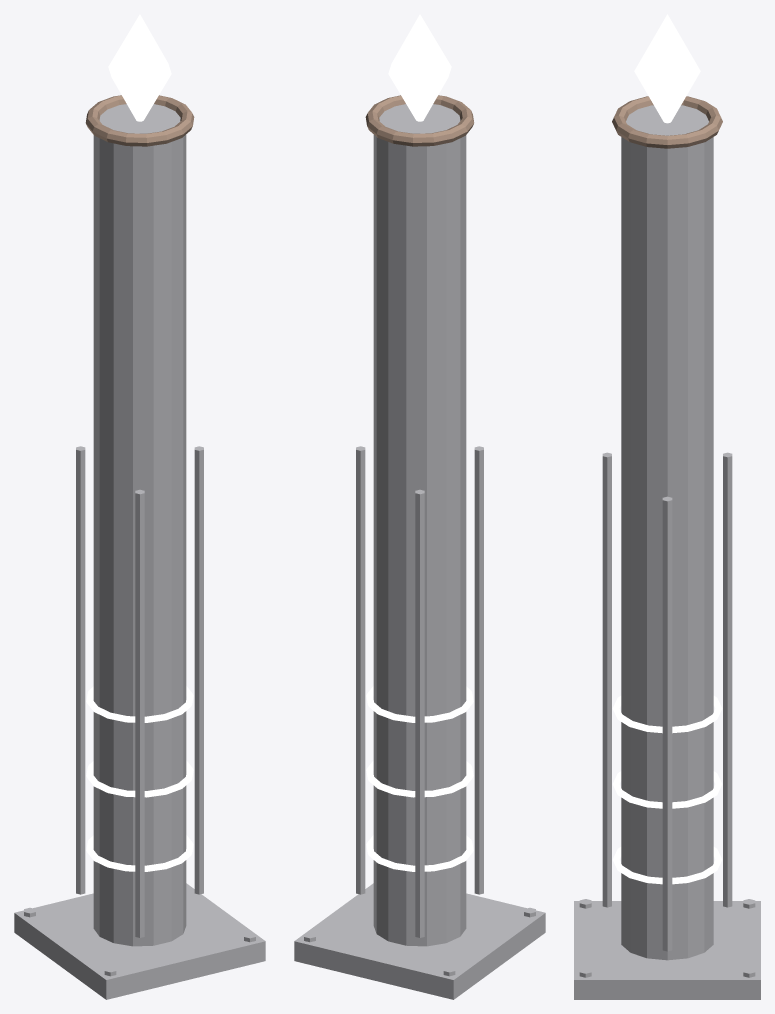
Rendered from flare_stack_epic.glb.
The picture shows the model from 3 angles, left to right: view 1: azimuth 30°, elevation 25°; view 2: azimuth 150°, elevation 25°; view 3: azimuth 270°, elevation 25°; orthographic projection.
Parts seen in each view (by area): view 1: flare_stack, flame; view 2: flare_stack, flame; view 3: flare_stack, flame.
Part boxes in pixels (left/top/right/bottom): flare_stack: left=14, top=95, right=265, bottom=999; flame: left=108, top=14, right=171, bottom=121; flare_stack: left=294, top=95, right=545, bottom=999; flame: left=388, top=14, right=451, bottom=121; flare_stack: left=574, top=96, right=760, bottom=999; flame: left=634, top=14, right=700, bottom=123.
Bounding box in the file's own units: 1.34 × 7.51 × 1.34.
